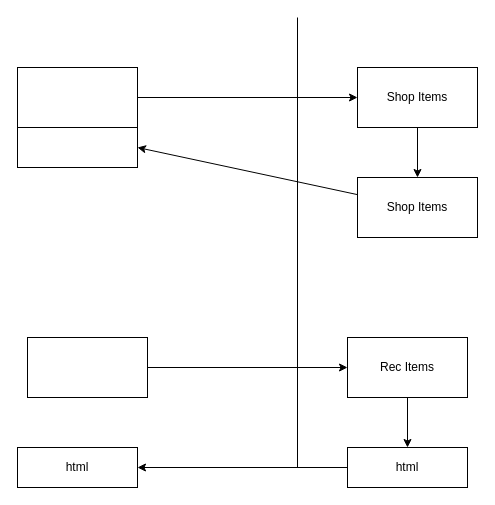
Some shapes in this 495 by 505 pixel diagram are drawn without their labels. Here are the shapes that lost their labels. From the top down, the centre of each, then its label:
pixel 77 97: Shop
pixel 77 147: JSX
pixel 87 367: Recptai
